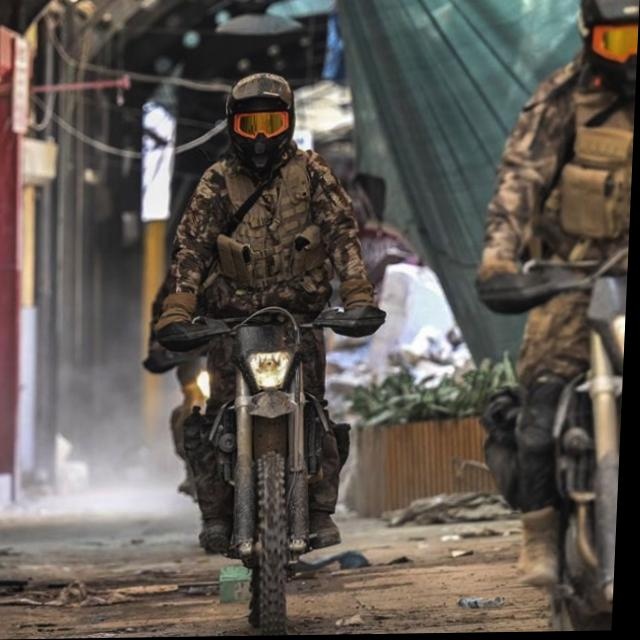poh_personel: (154, 71, 387, 562), (464, 0, 639, 602)
